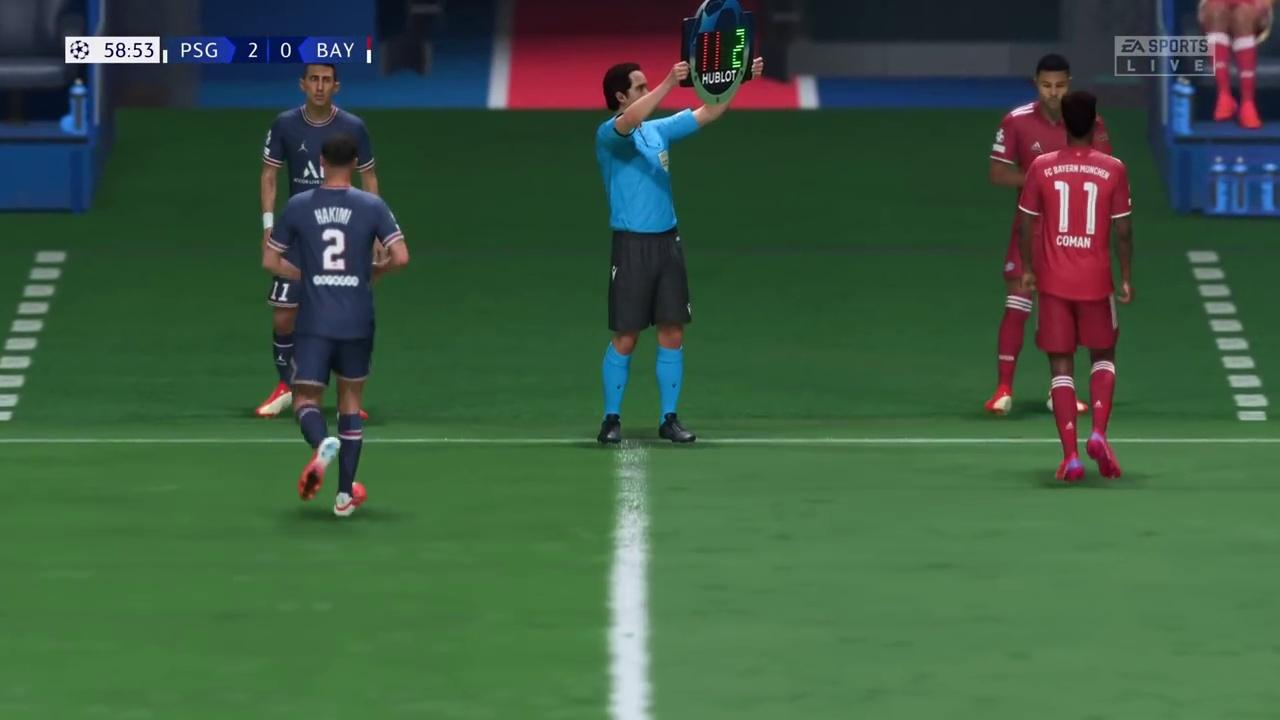scoreboard: (163, 35, 380, 65)
timestamp: (61, 34, 161, 67)
